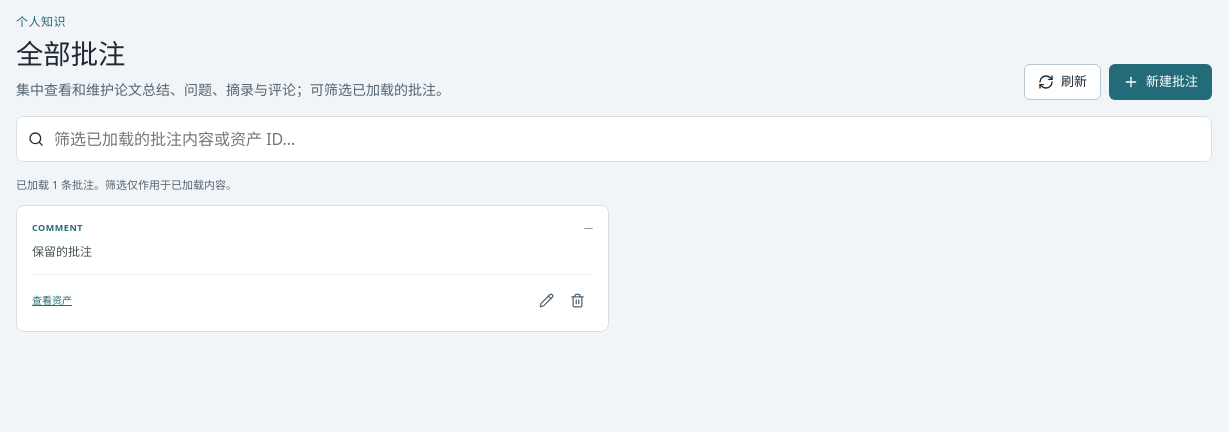
Test: AnnotationsPage › shows a delete failure and retries deletion without losing the annotation
Check: the text "保留的批注" is shown, box [32,243,92,260]
Click the 2nd button named "删除批注" at (578, 301), box [562,285,593,316]
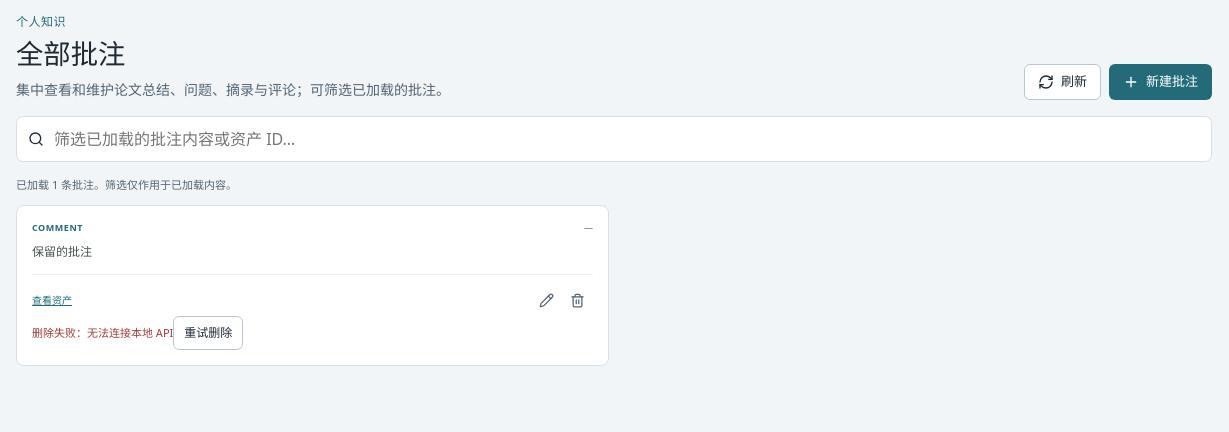
Check: the text "保留的批注" is shown, box [32,243,92,260]
Check: the text "删除失败：无法连接本地 API 重试删除" is shown, box [32,316,243,350]
Click the button "重试删除" at (208, 333), box [173,316,243,350]
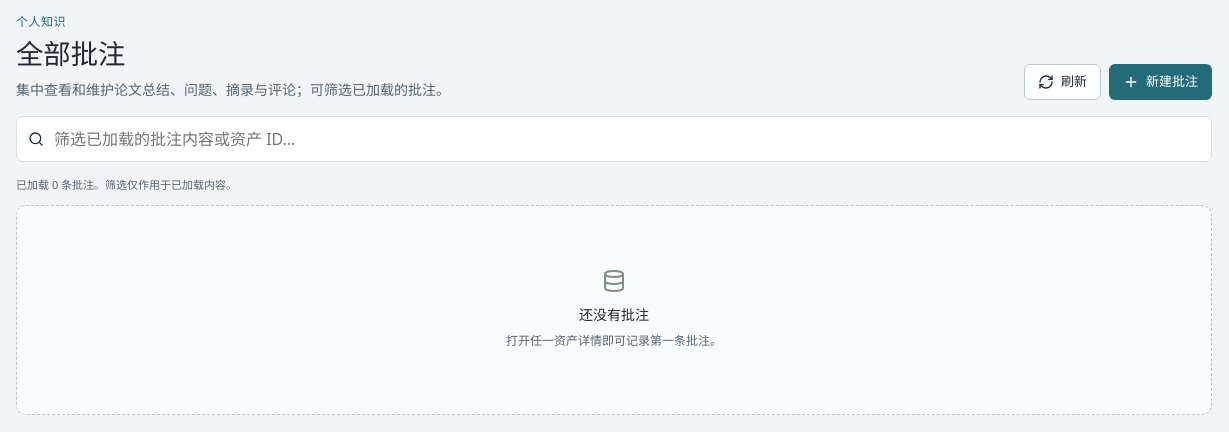
Check: the text "还没有批注" is shown, box [579,304,649,325]
